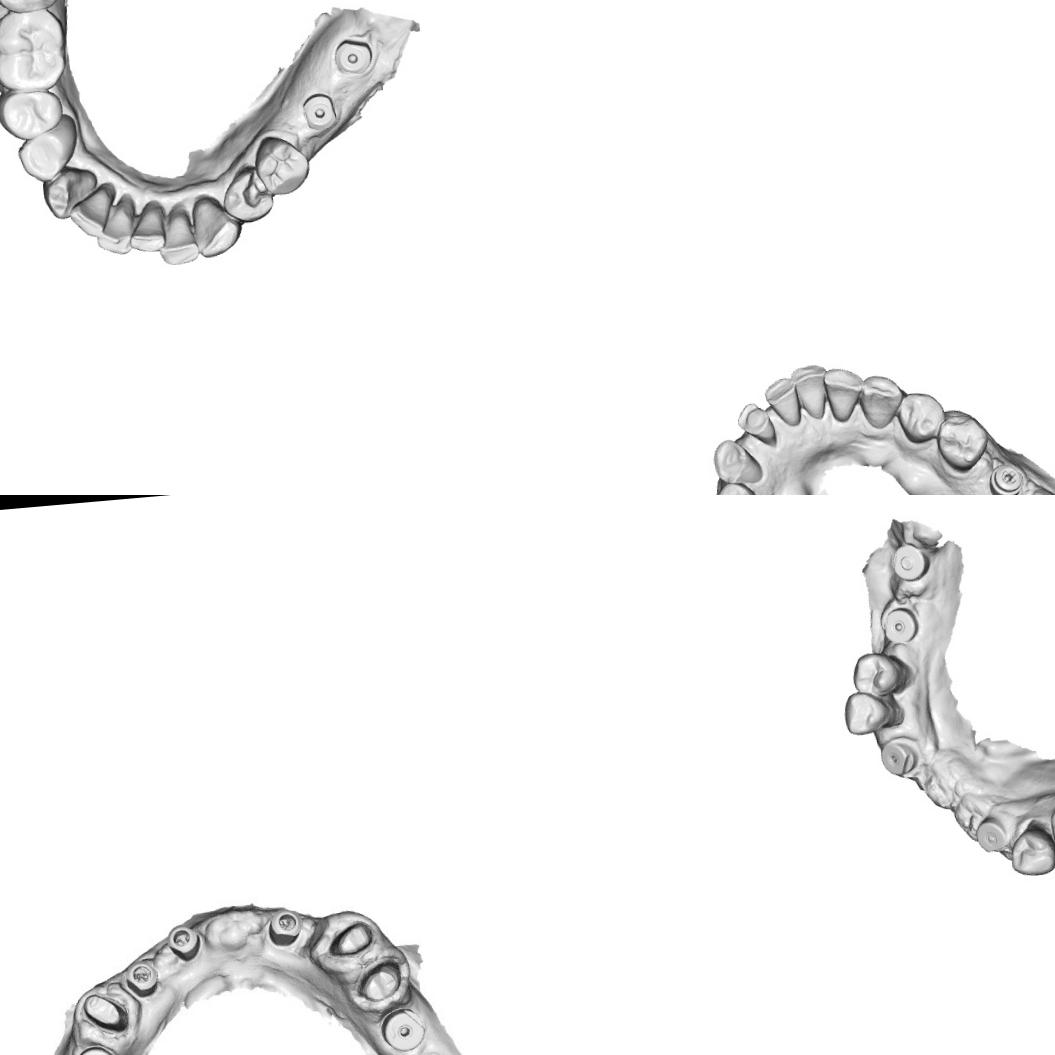canine: (190, 192, 245, 259), (39, 164, 100, 221), (841, 686, 904, 735), (856, 372, 905, 430), (710, 435, 764, 487), (1006, 825, 1055, 878)
crown: (80, 988, 129, 1036), (357, 958, 406, 1004), (329, 918, 373, 958)
implant: (379, 1004, 430, 1054), (330, 33, 374, 77), (888, 540, 932, 583), (120, 955, 162, 1000), (266, 904, 304, 952), (162, 918, 202, 961), (881, 604, 921, 644), (878, 737, 918, 777), (299, 91, 338, 131), (974, 813, 1008, 854), (70, 1043, 119, 1055)
implant_plus: (986, 461, 1024, 495)
incisor: (66, 186, 119, 241), (820, 364, 866, 424), (92, 200, 141, 256), (788, 362, 830, 422), (126, 199, 167, 258), (733, 399, 778, 450), (761, 374, 803, 428), (156, 214, 198, 266)
molar: (0, 5, 70, 94)
premolar: (13, 112, 84, 183), (252, 130, 314, 198), (0, 84, 66, 144), (934, 410, 990, 472), (220, 162, 275, 224), (893, 389, 948, 445), (850, 648, 909, 698), (710, 478, 765, 495)
